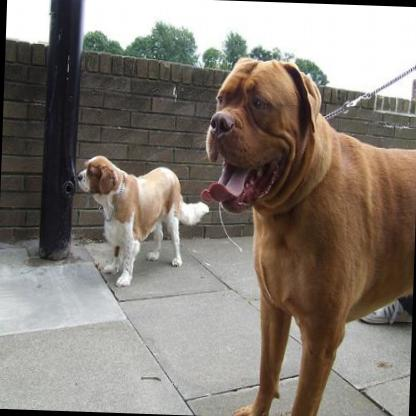bull_mastiff: (192, 54, 416, 416)
